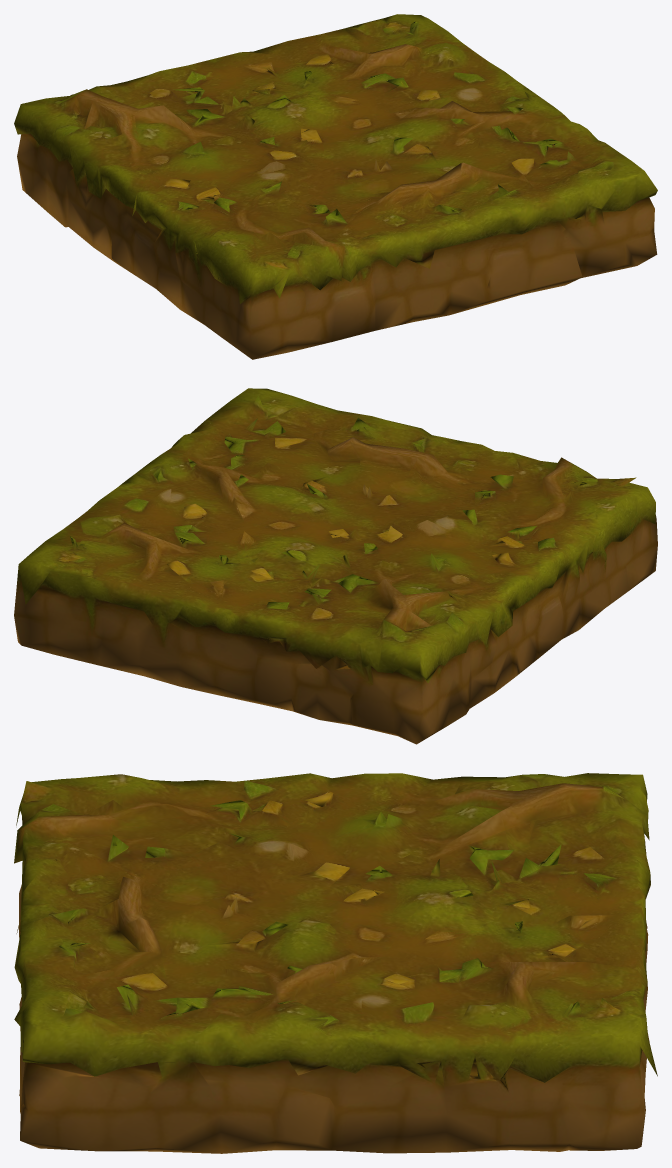
File: forest_ground_tile.glb
The picture shows the model from 3 angles, top to bottom: view 1: azimuth 30°, elevation 25°; view 2: azimuth 150°, elevation 25°; view 3: azimuth 270°, elevation 25°; orthographic projection. The views are drawn at different scales.
Parts seen in each view (by area): view 1: tripo_node_dd8a00ec-3710-4acf-b6d0-935c4b184557; view 2: tripo_node_dd8a00ec-3710-4acf-b6d0-935c4b184557; view 3: tripo_node_dd8a00ec-3710-4acf-b6d0-935c4b184557.
Boxes of the visible parts, x1,y1,x2,y2 form: tripo_node_dd8a00ec-3710-4acf-b6d0-935c4b184557: [14, 14, 657, 359]; tripo_node_dd8a00ec-3710-4acf-b6d0-935c4b184557: [14, 388, 657, 744]; tripo_node_dd8a00ec-3710-4acf-b6d0-935c4b184557: [14, 773, 657, 1153].
Bounding box in the file's own units: 0.9854 × 0.2495 × 1.
Materials: 1 (1 with a texture image).
